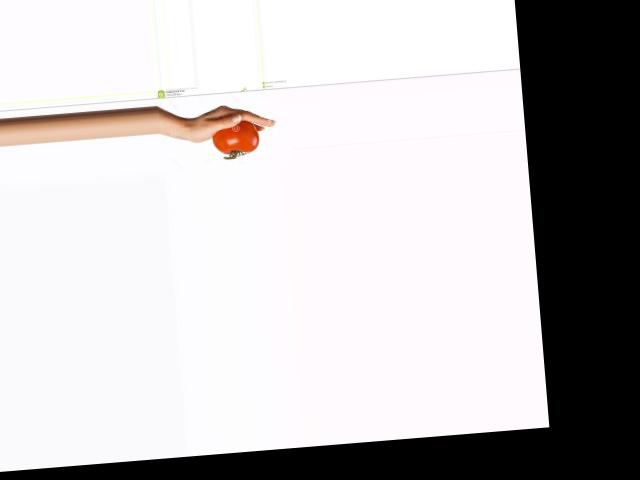tomato: (211, 119, 260, 155)
